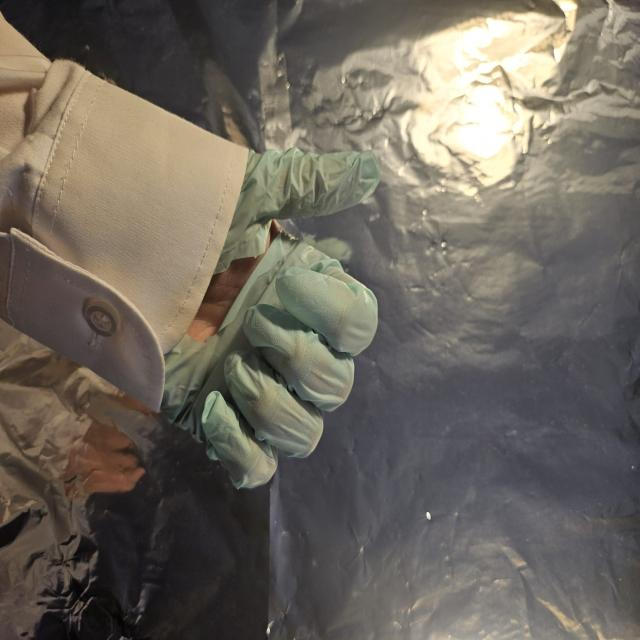gloves_damaged: (157, 140, 384, 494)
